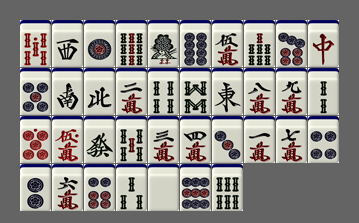0m: (52, 116, 83, 163)
0p: (20, 116, 51, 163)
0s: (20, 20, 51, 67)
1m: (244, 116, 275, 163)
1p: (84, 20, 115, 67)
1s: (148, 20, 179, 67)
1z: (212, 68, 243, 115)
2m: (116, 68, 147, 115)
2p: (20, 164, 51, 211)
2s: (308, 68, 339, 115)
2z: (52, 68, 83, 115)
3m: (148, 116, 179, 163)
3p: (212, 116, 243, 163)
3s: (116, 164, 147, 211)
3z: (52, 20, 83, 67)
4m: (180, 116, 211, 163)
4p: (308, 116, 339, 163)
4s: (148, 68, 179, 115)
4z: (84, 68, 115, 115)
5m: (212, 20, 243, 67)
5p: (20, 68, 51, 115)
5s: (116, 116, 147, 163)
5z: (148, 164, 179, 211)
6m: (52, 164, 83, 211)
6p: (84, 164, 115, 211)
6s: (212, 164, 243, 211)
6z: (84, 116, 115, 163)
7m: (276, 116, 307, 163)
7p: (276, 20, 307, 67)
7s: (244, 20, 275, 67)
7z: (308, 20, 339, 67)
8m: (244, 68, 275, 115)
8p: (180, 20, 211, 67)
8s: (180, 68, 211, 115)
9m: (276, 68, 307, 115)
9p: (180, 164, 211, 211)
9s: (116, 20, 147, 67)
